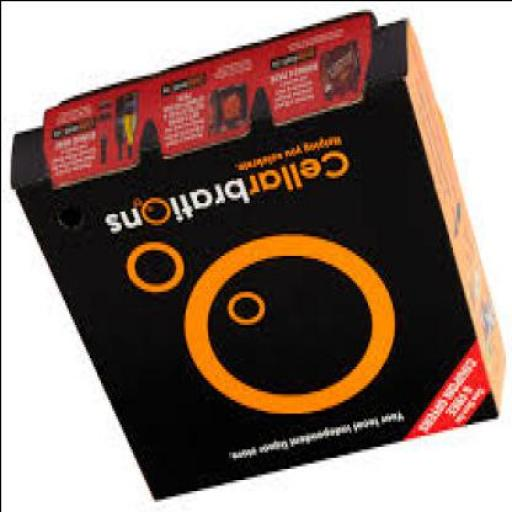cardboard: (14, 11, 508, 499)
